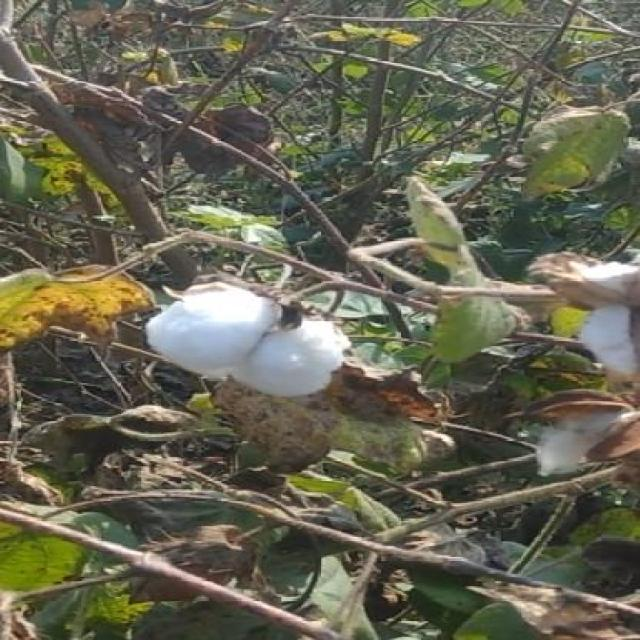cotton_ready: (109, 274, 368, 415)
